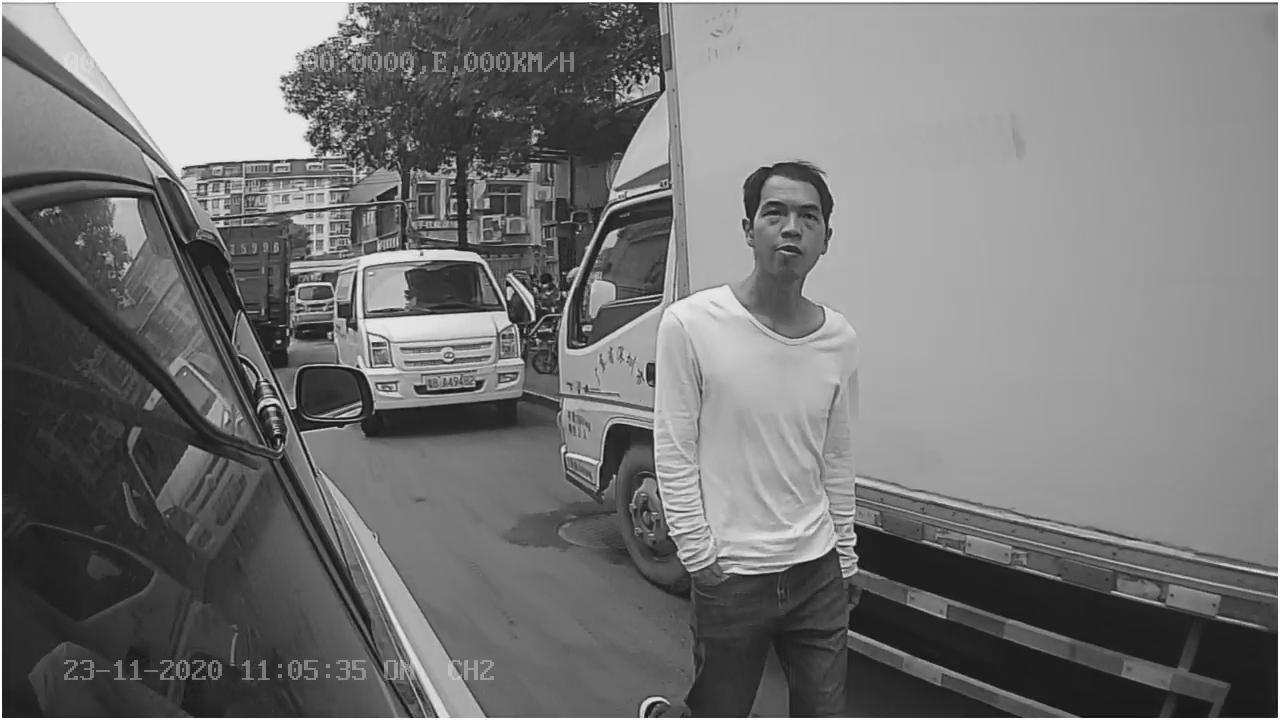person: (648, 152, 873, 660)
